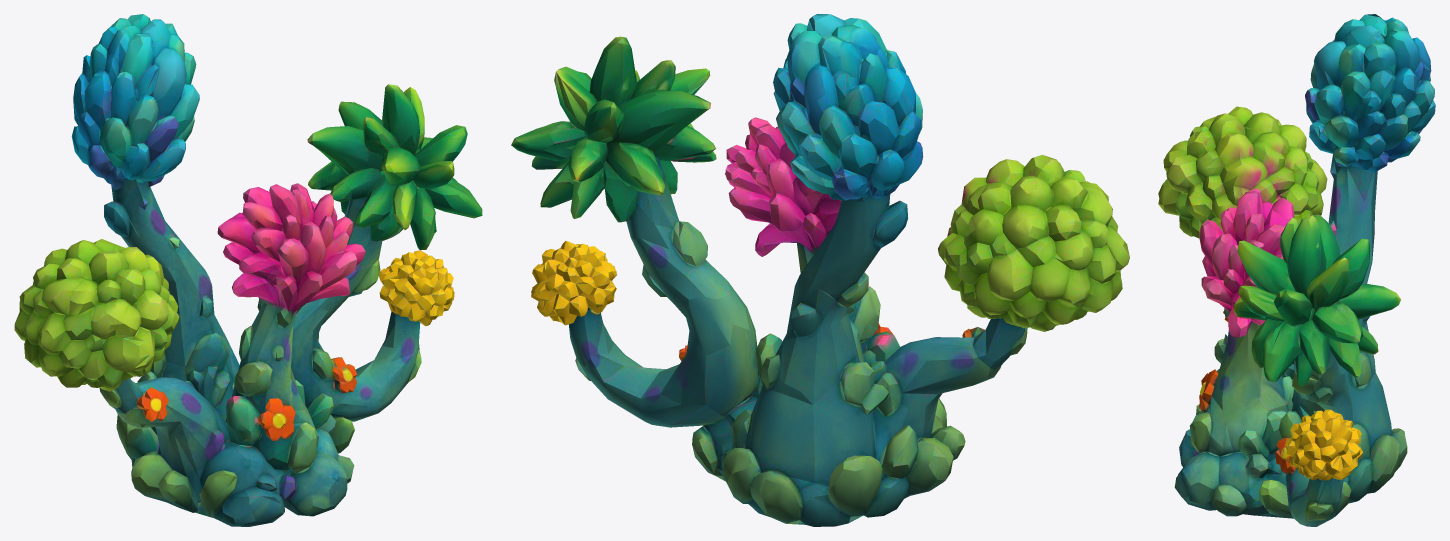
File: whimsy-bloom-coral.glb
3 renders of one model, left to right at view 1: azimuth 30°, elevation 25°; view 2: azimuth 150°, elevation 25°; view 3: azimuth 270°, elevation 25°, orthographic. The views are drawn at different scales.
Visible parts, largest first — view 1: output_unwrapped; view 2: output_unwrapped; view 3: output_unwrapped.
Part boxes in pixels (bbox=[...]): output_unwrapped: bbox=[14, 14, 482, 526]; output_unwrapped: bbox=[511, 14, 1129, 526]; output_unwrapped: bbox=[1158, 14, 1435, 526].
Bounding box in the file's own units: 1.9 × 1.71 × 0.9862.
1 material, 1 textured.
